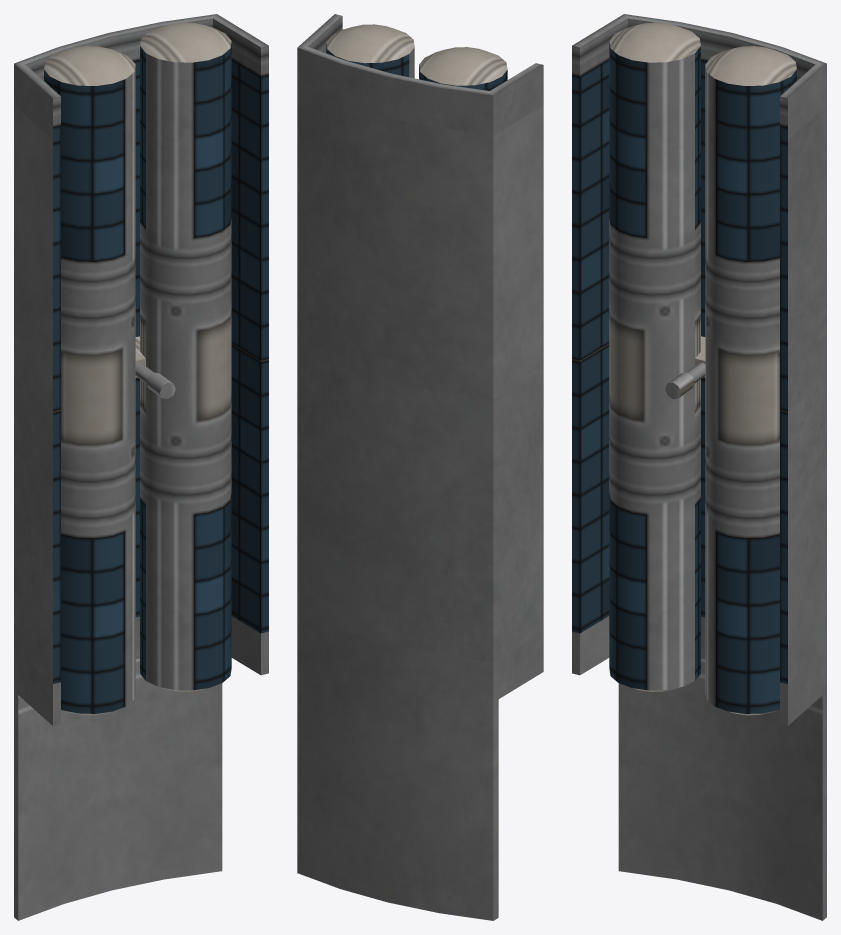
The model's file is double_box_overhang.obj.
3 renders of one model, left to right at view 1: azimuth 30°, elevation 25°; view 2: azimuth 150°, elevation 25°; view 3: azimuth 330°, elevation 25°, orthographic. The views are drawn at different scales.
Parts seen in each view (by area): view 1: 1; view 2: 1; view 3: 1.
Part boxes in pixels (box(x1,y1,x2,y2)): 1: box(14, 14, 268, 920); 1: box(297, 14, 543, 920); 1: box(572, 14, 826, 920).
Bounding box in the file's own units: 0.675 × 2.59 × 0.325.
